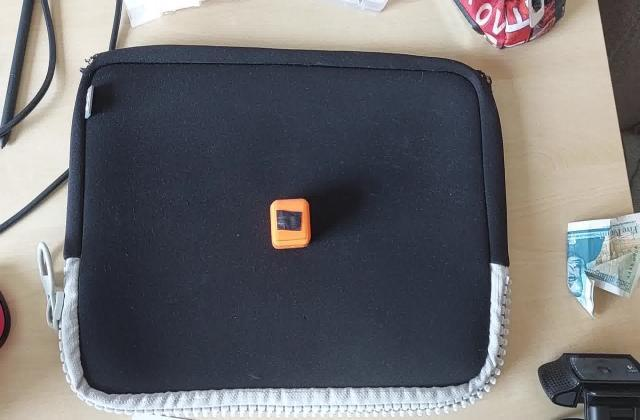black: (274, 208, 304, 234)
sticker: (268, 197, 314, 252)
